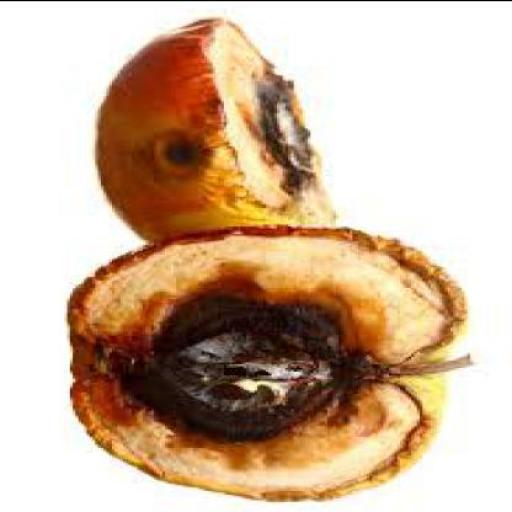biodegradable: (67, 224, 478, 502), (96, 20, 342, 242)
